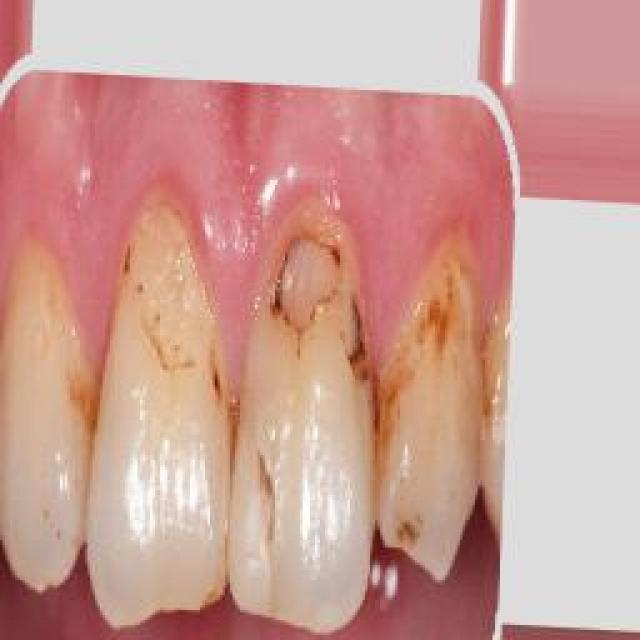caries: (113, 215, 220, 395), (335, 305, 400, 445), (270, 240, 340, 358), (410, 265, 478, 368), (258, 465, 288, 545), (395, 518, 423, 551)
